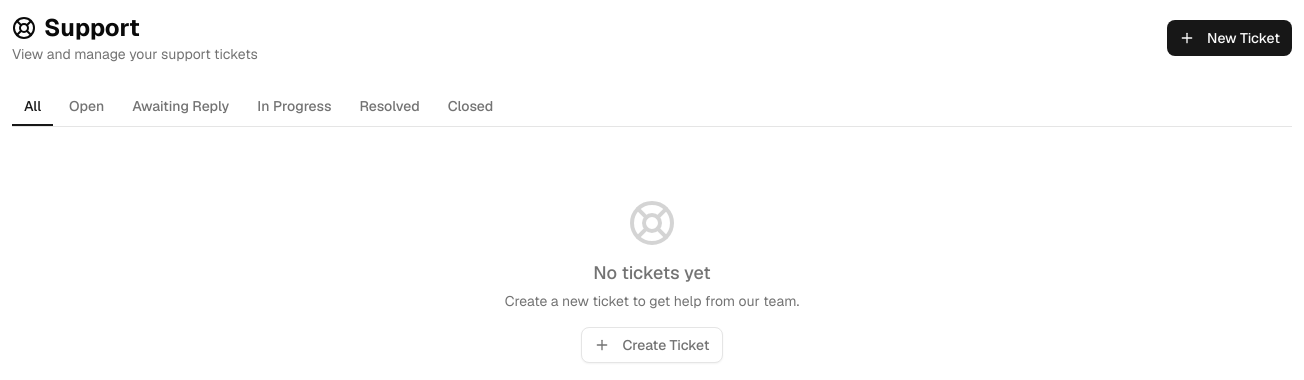
Test case: SupportPage › shows tab-specific empty state when a filtered tab has no tickets
This screenshot has width=1304, height=380.
Note: Click on "Closed" tab
Click the button "Closed" at (470, 107), box [436, 88, 505, 126]
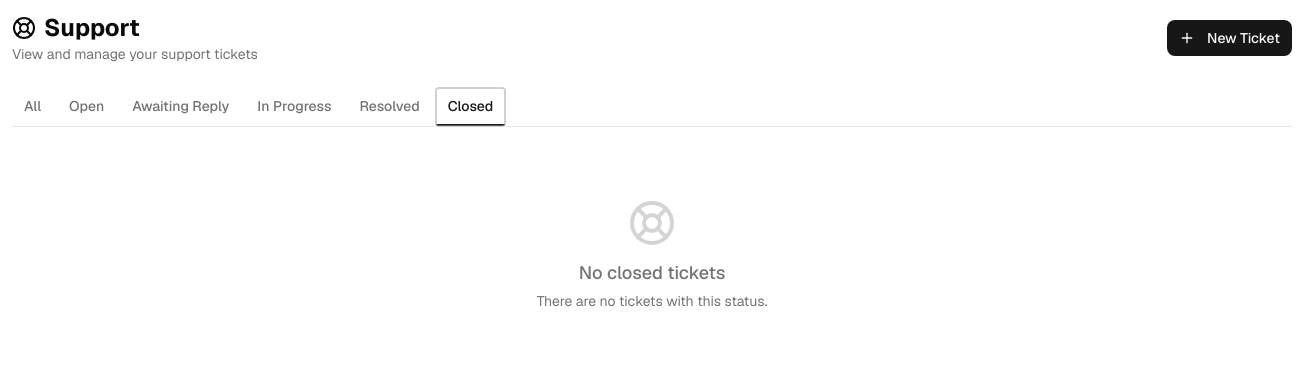
Now the text "No closed tickets" is shown, box [579, 261, 725, 284]
Now the text "There are no tickets with this status." is shown, box [537, 292, 767, 310]
Now the button "Create Ticket" is gone
